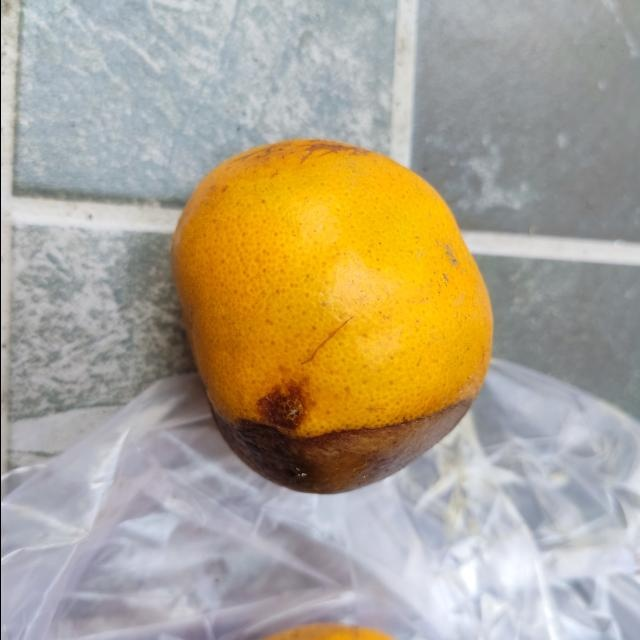agrume: (162, 133, 497, 499)
